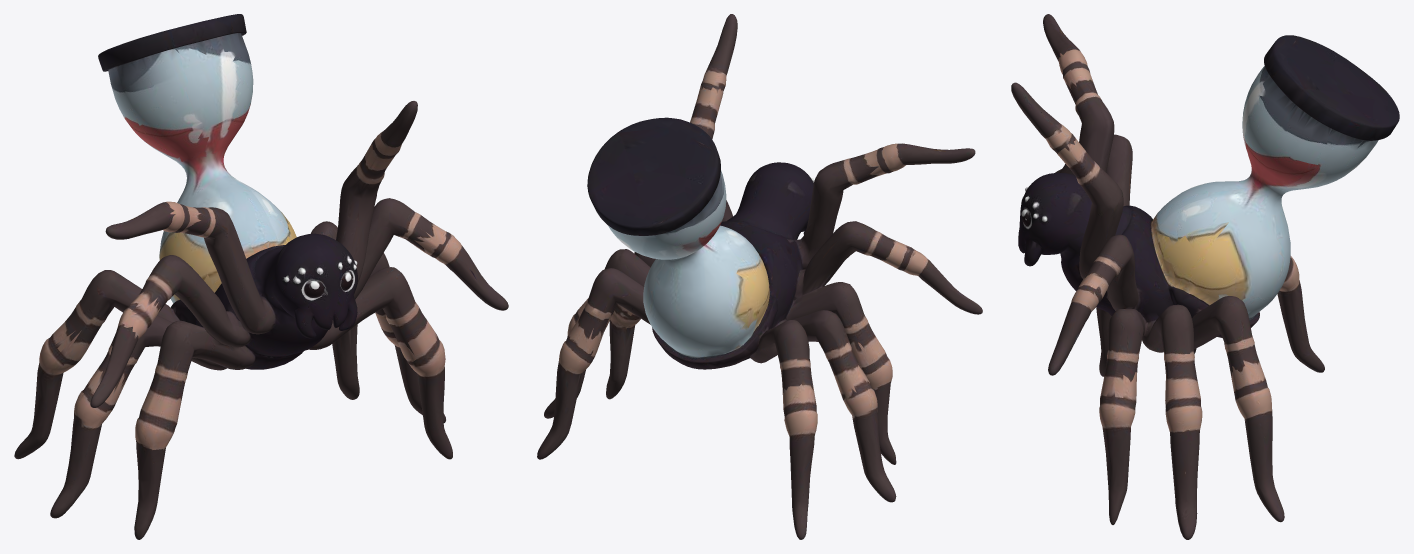
3 views of the same model, side by side, from view 1: azimuth 30°, elevation 25°; view 2: azimuth 150°, elevation 25°; view 3: azimuth 270°, elevation 25° (orthographic). The views are drawn at different scales.
Parts seen in each view (by area): view 1: Mesh_0; view 2: Mesh_0; view 3: Mesh_0.
Part boxes in pixels (box(x1,y1,x2,y2)): Mesh_0: box(14, 14, 508, 539); Mesh_0: box(537, 14, 982, 539); Mesh_0: box(1011, 14, 1399, 539).
Bounding box in the file's own units: 1.9 × 1.79 × 1.57.
Materials: 1 (1 with a texture image).
